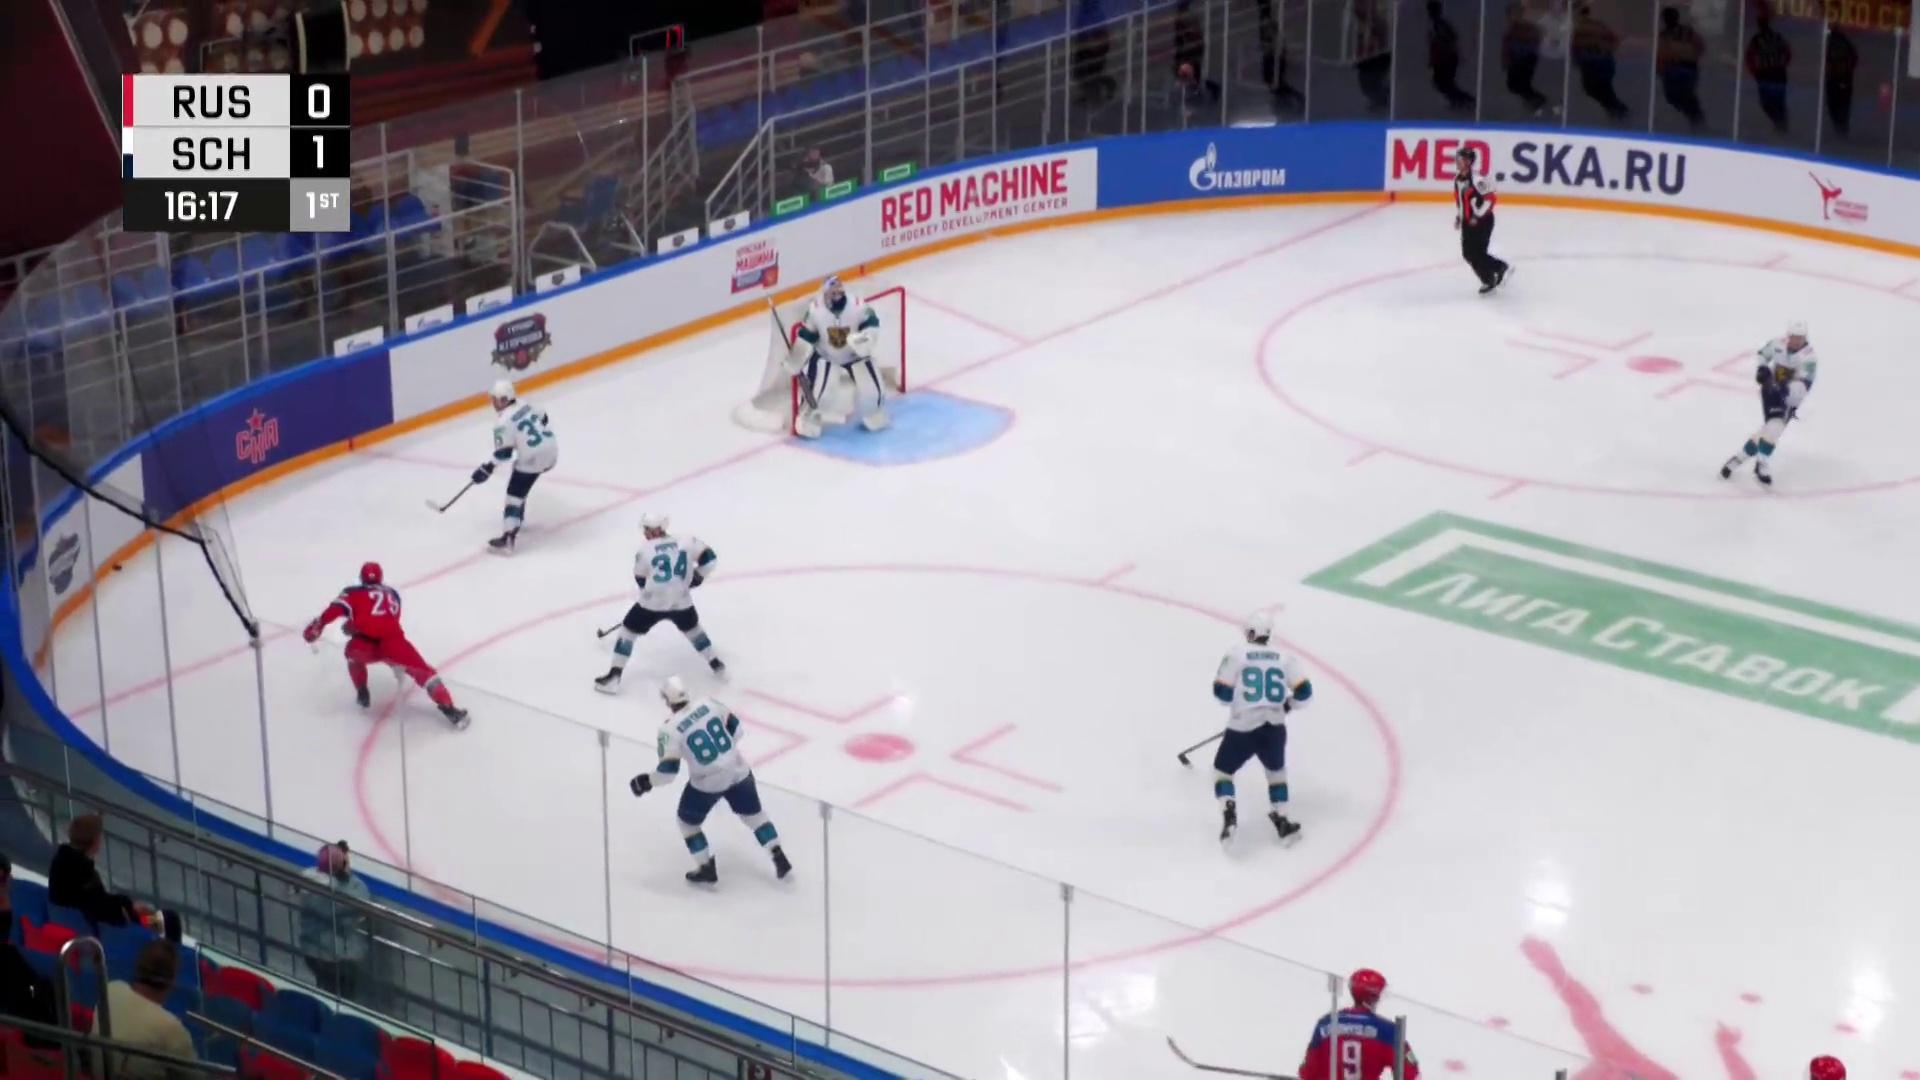ball: (113, 564, 123, 572)
